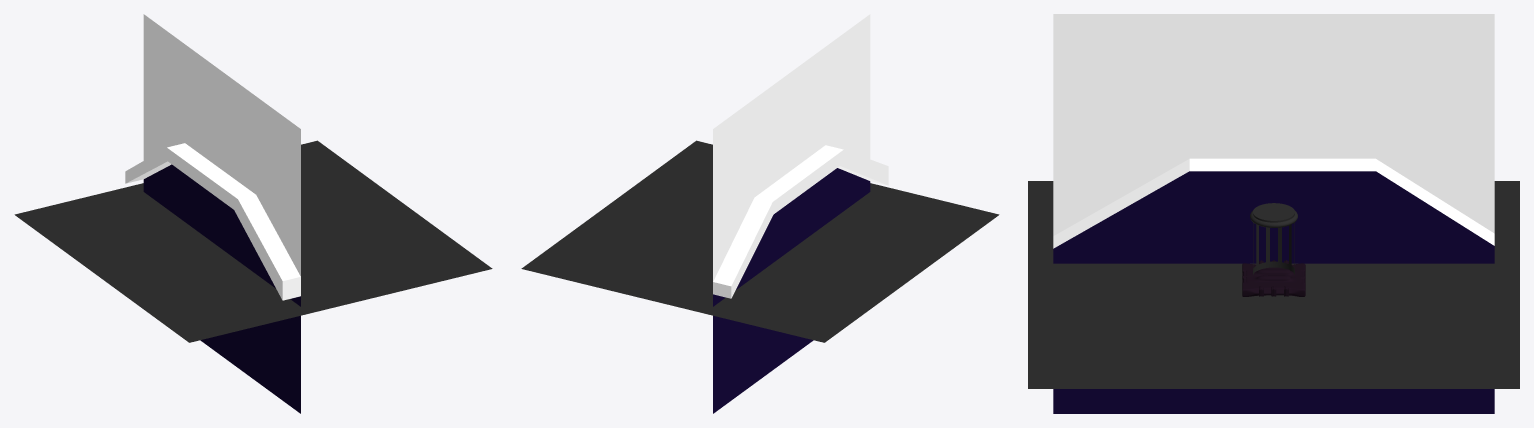
Rendered from teleport.glb.
3 views of the same model, side by side, from view 1: azimuth 30°, elevation 25°; view 2: azimuth 150°, elevation 25°; view 3: azimuth 270°, elevation 25° (orthographic). The views are drawn at different scales.
Visible parts, largest first — view 1: Plane.001, Plane; view 2: Plane.001, Plane; view 3: Plane, Plane.001, Cube, Cylinder.
Part boxes in pixels (x1,y1,x2,y2): Plane.001: (14,140,492,342); Plane: (125,14,300,413); Plane.001: (521,140,999,342); Plane: (713,14,888,413); Plane: (1053,14,1494,413); Plane.001: (1028,181,1519,388); Cube: (1242,260,1305,296); Cylinder: (1253,203,1294,274).
Size of the model in its own units: 117 by 105 by 117.
